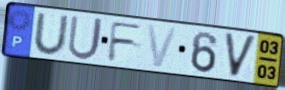6: (190, 30, 220, 74)
F: (106, 20, 145, 63)
U: (66, 14, 106, 62), (32, 12, 71, 58)
V: (222, 31, 259, 80), (145, 23, 181, 70)
